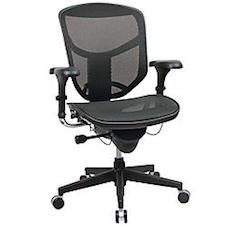chair: (31, 4, 197, 222)
